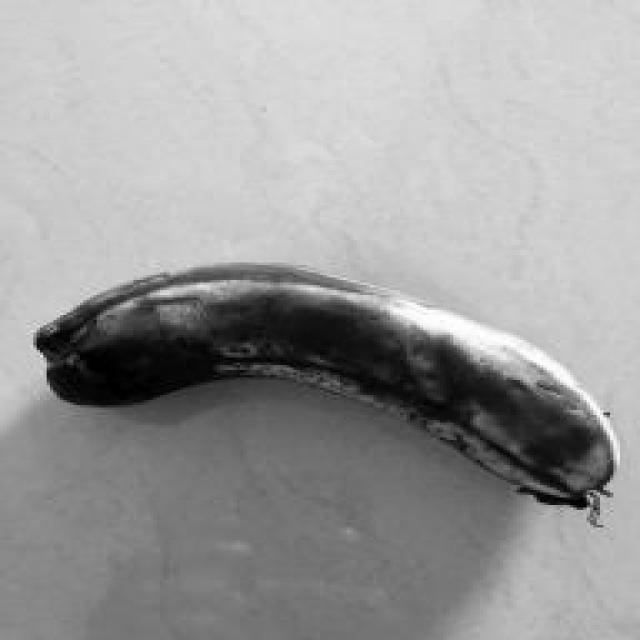Rotten: (19, 229, 640, 539)
